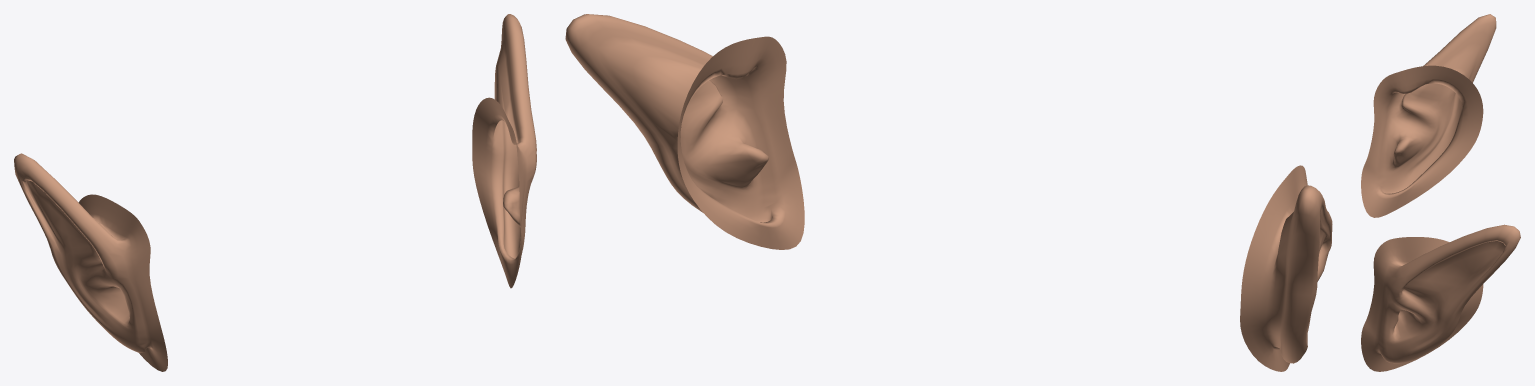
File: human_male_model_elf_ears.fbx
3 renders of one model, left to right at view 1: azimuth 30°, elevation 25°; view 2: azimuth 150°, elevation 25°; view 3: azimuth 270°, elevation 25°, orthographic. The views are drawn at different scales.
Visible parts, largest first — view 1: EAR1, EAR1.001; view 2: EAR1.001, EAR1; view 3: EAR1, EAR1.001.
Part boxes in pixels (left/top/right/bottom): EAR1: left=14, top=153, right=167, bottom=371; EAR1.001: left=472, top=14, right=536, bottom=288; EAR1.001: left=565, top=14, right=804, bottom=249; EAR1: left=1240, top=165, right=1332, bottom=371; EAR1: left=1361, top=14, right=1496, bottom=217; EAR1.001: left=1361, top=224, right=1520, bottom=371.
Bounding box in the file's own units: 20.47 × 7.55 × 6.13.
